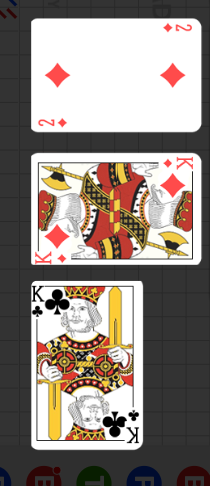2D: (161, 22, 193, 34)
KC: (122, 405, 141, 446)
KD: (161, 155, 195, 170)
